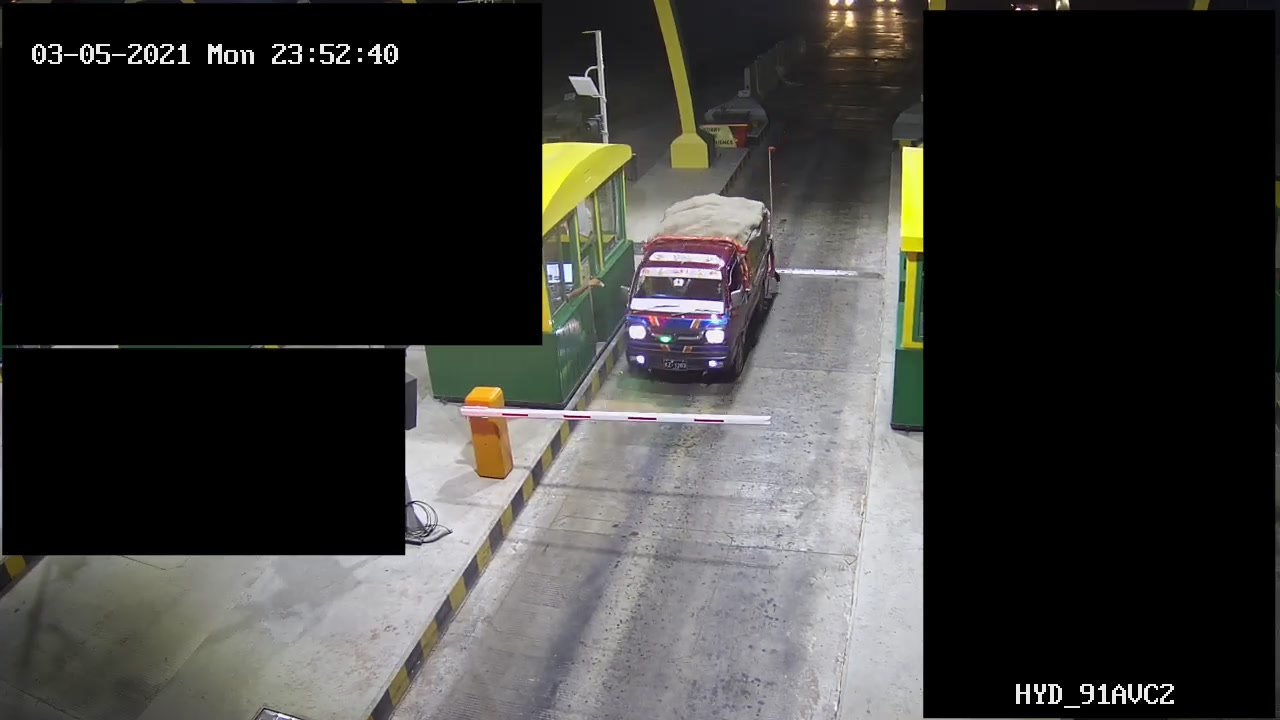F1: (619, 177, 777, 396)
